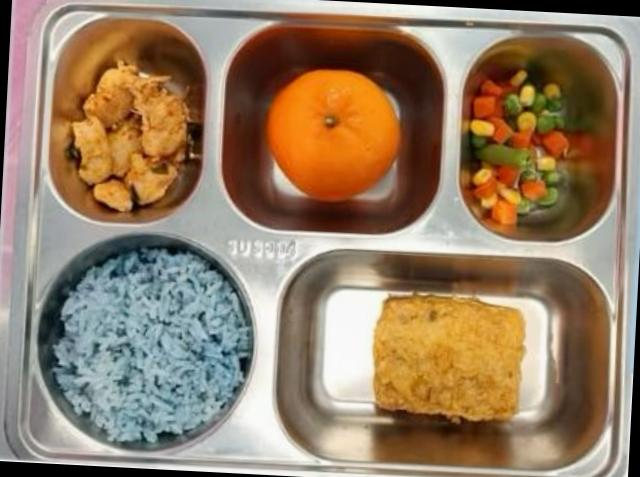ayam: (71, 61, 191, 212)
buah: (266, 69, 401, 201)
nasi: (54, 248, 252, 443)
sayur: (470, 69, 569, 226)
tahu: (372, 294, 525, 422)
